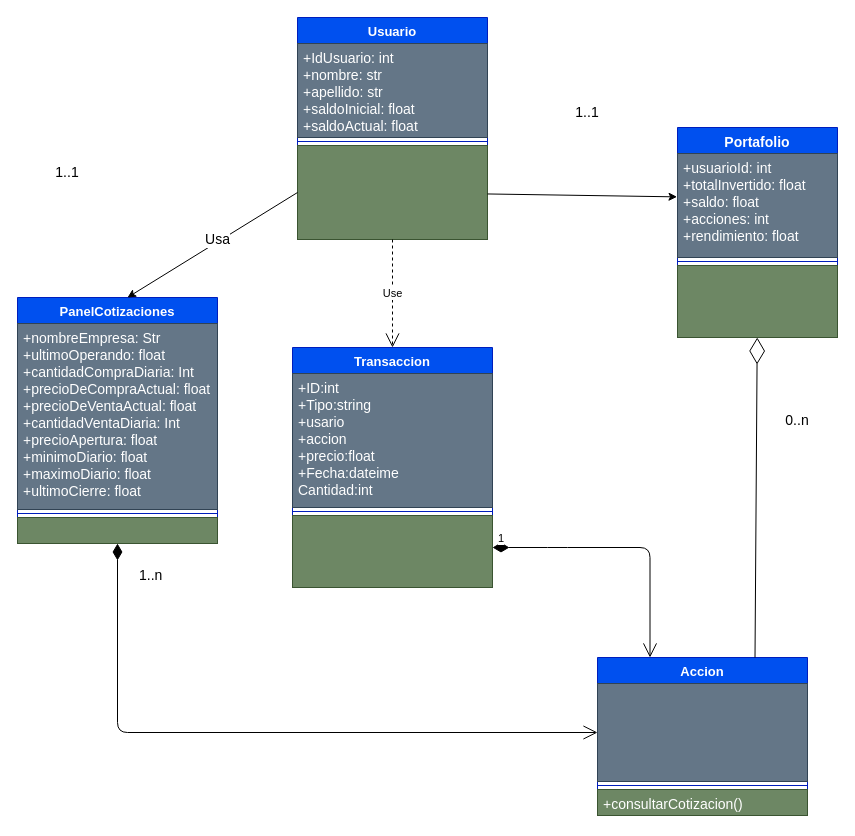
The diagram is 855 pixels wide and 836 high, and some of its shapes have lost their labels. Here are the shapes that lost their labels. From the top down, the centre of each, then its label:
At (392,192): "+crearUsuario() +consultarPortafolio()".
At (757,301): "+Consultar".
At (117,530): "+consultarCotizacion(accion)".
At (392,551): "+RealizarTransaccion (accion) +Calcular_comision ()".
At (702,732): "+accionId: int +titulo: str +precioVentaActual: float +precioCompraActual: float".
